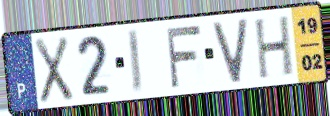2: (77, 33, 117, 100)
F: (163, 22, 203, 90)
H: (254, 13, 295, 82)
I: (125, 27, 145, 96)
V: (210, 16, 250, 86)
X: (32, 34, 75, 106)
